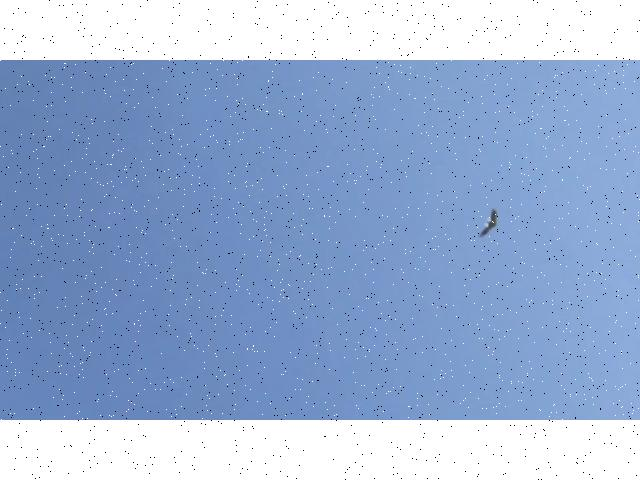Anti-Drone: (463, 193, 517, 245)
